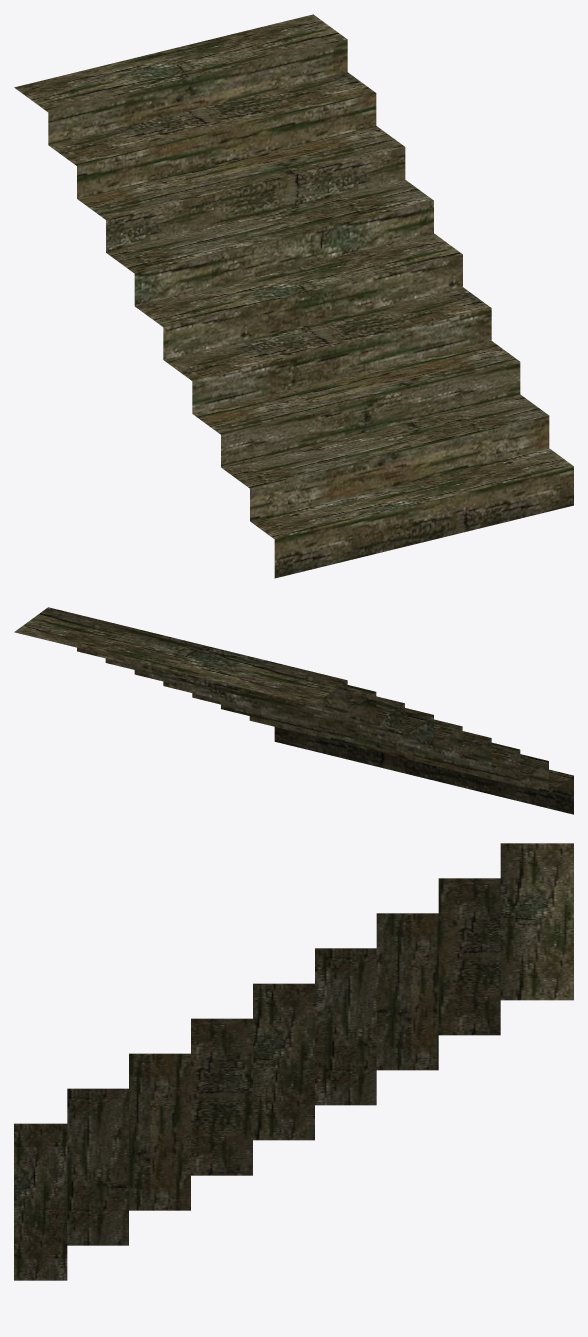
The model's file is NC_STAIRS_V01.glb.
3 renders of one model, top to bottom at view 1: azimuth 30°, elevation 25°; view 2: azimuth 150°, elevation 25°; view 3: azimuth 270°, elevation 25°, orthographic. The views are drawn at different scales.
Parts seen in each view (by area): view 1: Mesh; view 2: Mesh; view 3: Mesh.
Boxes of the visible parts, x1,y1,x2,y2 form: Mesh: (14, 14, 573, 578); Mesh: (14, 607, 573, 814); Mesh: (14, 843, 573, 1280).
Bounding box in the file's own units: 4.8 × 4.6 × 7.24.
1 material, 1 textured.
